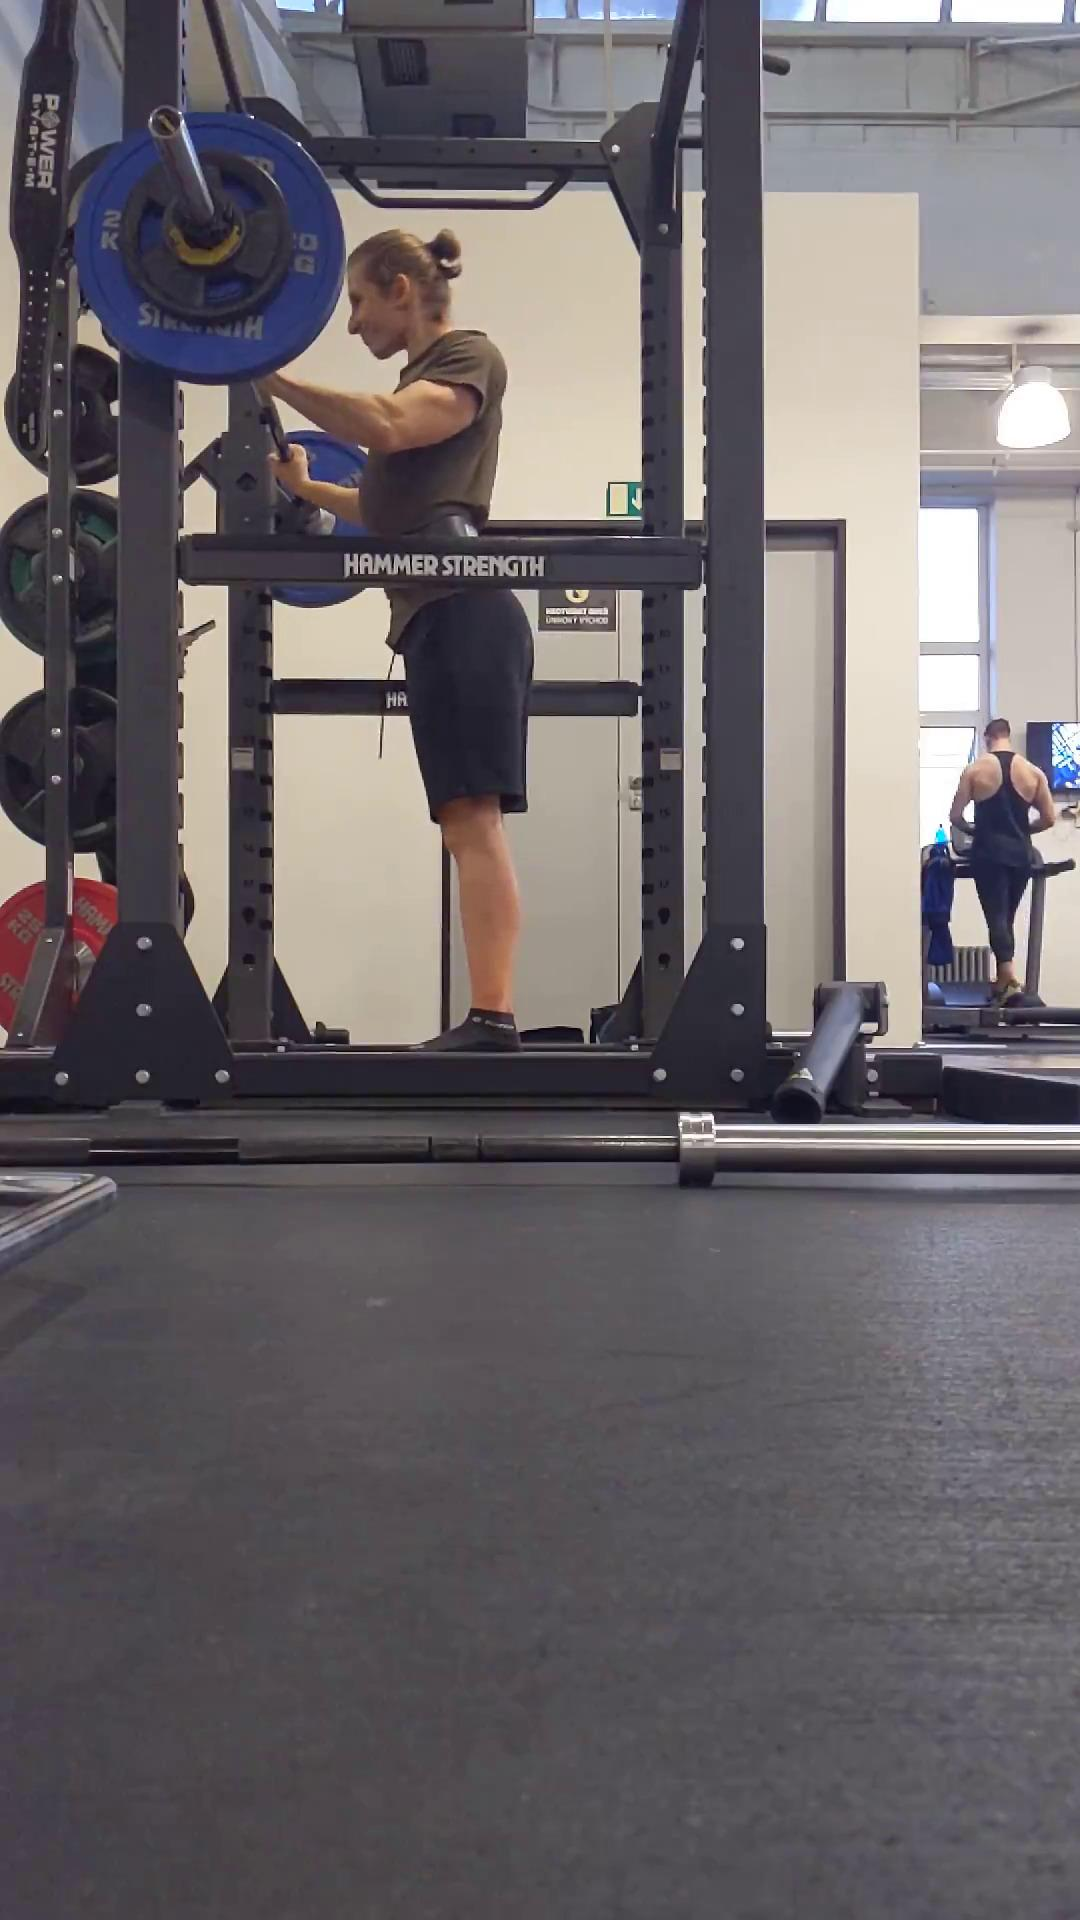barbell: (75, 109, 345, 373)
